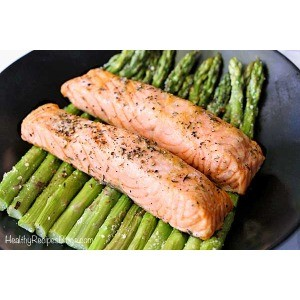salmon_brain food: (29, 86, 267, 197)
